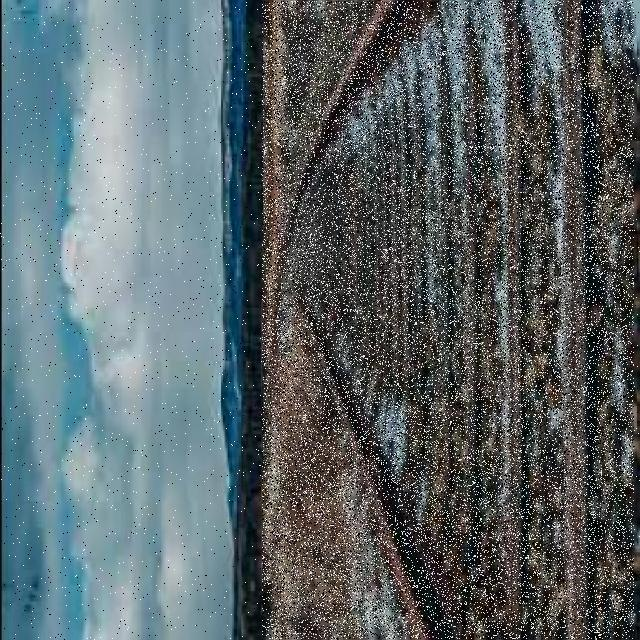rail: (264, 2, 635, 640)
